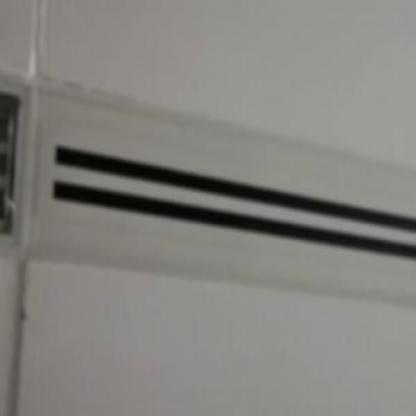light_off: (0, 30, 44, 278)
